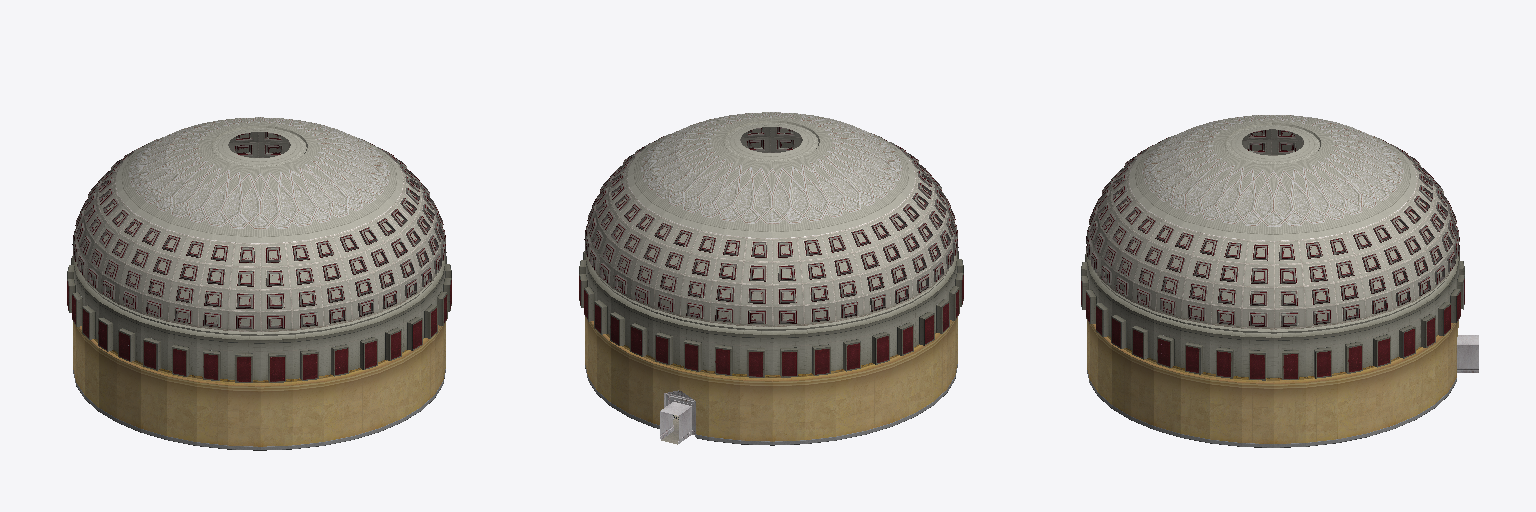
The picture shows the model from 3 angles: view 1: azimuth 30°, elevation 25°; view 2: azimuth 150°, elevation 25°; view 3: azimuth 270°, elevation 25°; orthographic projection.
Visible parts, largest first — view 1: Spawn_Dach_Segment009, Spawn_Wand_Standart_Segment011; view 2: Spawn_Dach_Segment009, Spawn_Wand_Standart_Segment011, Door; view 3: Spawn_Dach_Segment009, Spawn_Wand_Standart_Segment011, Door.
Part boxes in pixels (left/top/right/bottom): Spawn_Dach_Segment009: left=67, top=117, right=451, bottom=386; Spawn_Wand_Standart_Segment011: left=73, top=322, right=445, bottom=450; Spawn_Dach_Segment009: left=579, top=112, right=963, bottom=381; Spawn_Wand_Standart_Segment011: left=585, top=317, right=957, bottom=445; Door: left=660, top=390, right=695, bottom=443; Spawn_Dach_Segment009: left=1081, top=115, right=1464, bottom=383; Spawn_Wand_Standart_Segment011: left=1087, top=320, right=1458, bottom=447; Door: left=1457, top=335, right=1478, bottom=372.
Bounding box in the file's own units: 33.5 × 21.8 × 34.69.
Materials: 5 (5 with a texture image).